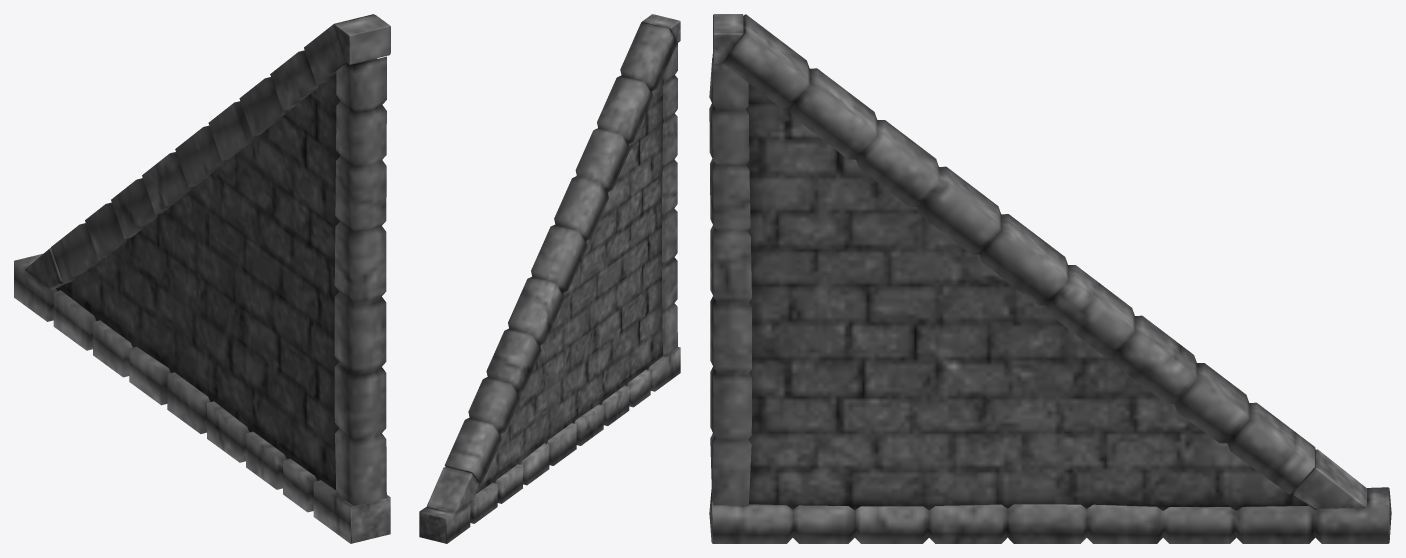
Rendered from SM_WallTryangle_Stone_9acfd0.glb.
3 renders of one model, left to right at view 1: azimuth 30°, elevation 25°; view 2: azimuth 150°, elevation 25°; view 3: azimuth 270°, elevation 25°, orthographic. The views are drawn at different scales.
Bounding box in the file's own units: 0.2861 × 3.32 × 4.02.
Materials: 1 (1 with a texture image).
